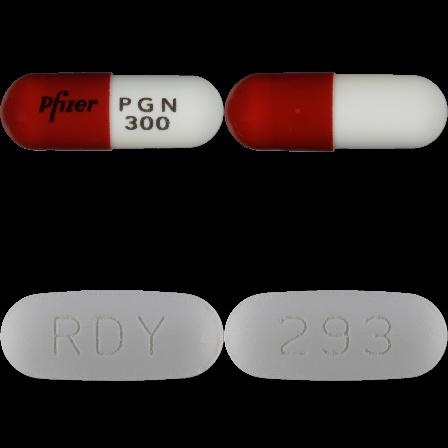35356-398: (0, 0, 224, 224)
